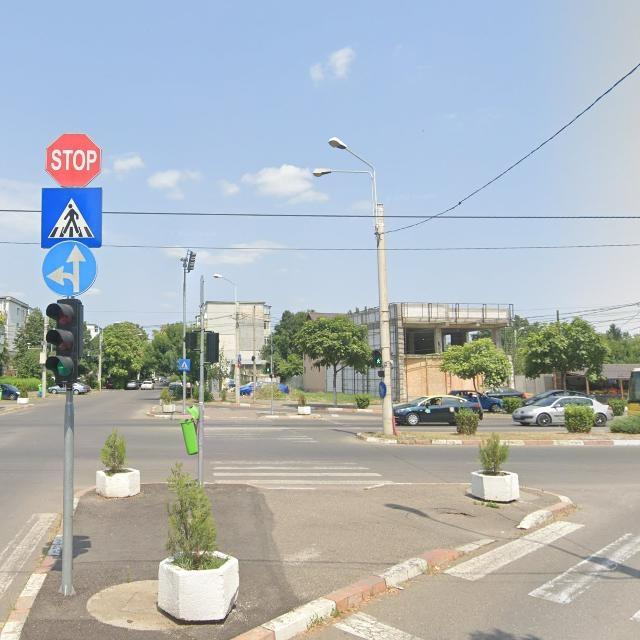info_crosswalk: (36, 183, 104, 251)
prio_stop: (40, 132, 106, 190)
